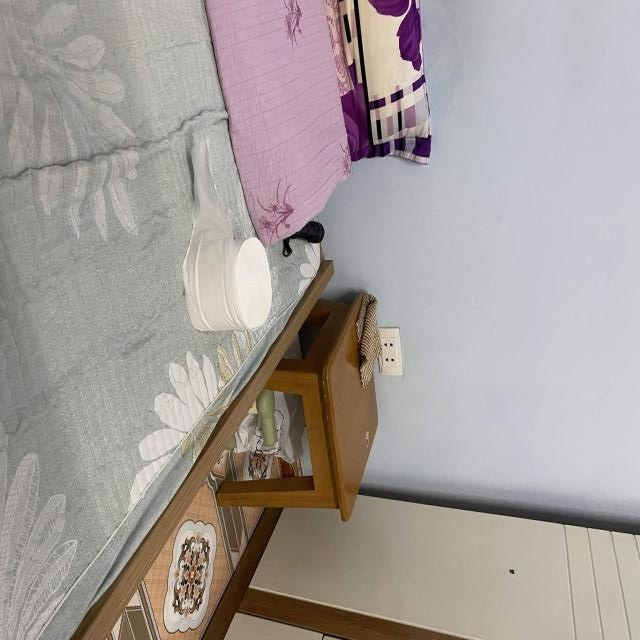outlet: (377, 327, 403, 376)
